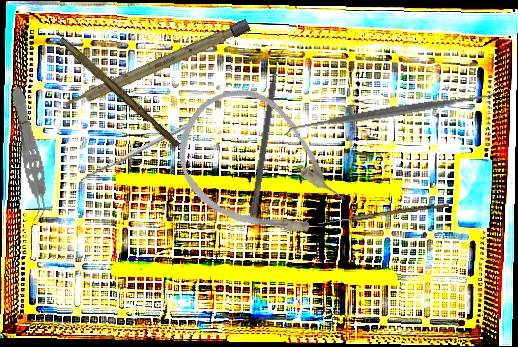Cannula: (154, 66, 367, 272)
Scalpel Handle: (62, 18, 251, 113), (55, 36, 183, 149)
Spatula Surgical: (283, 84, 497, 141), (75, 123, 192, 188), (248, 46, 288, 226)
Surgical Spoon: (317, 200, 450, 228)
Tissue Forceps: (5, 85, 54, 224)
